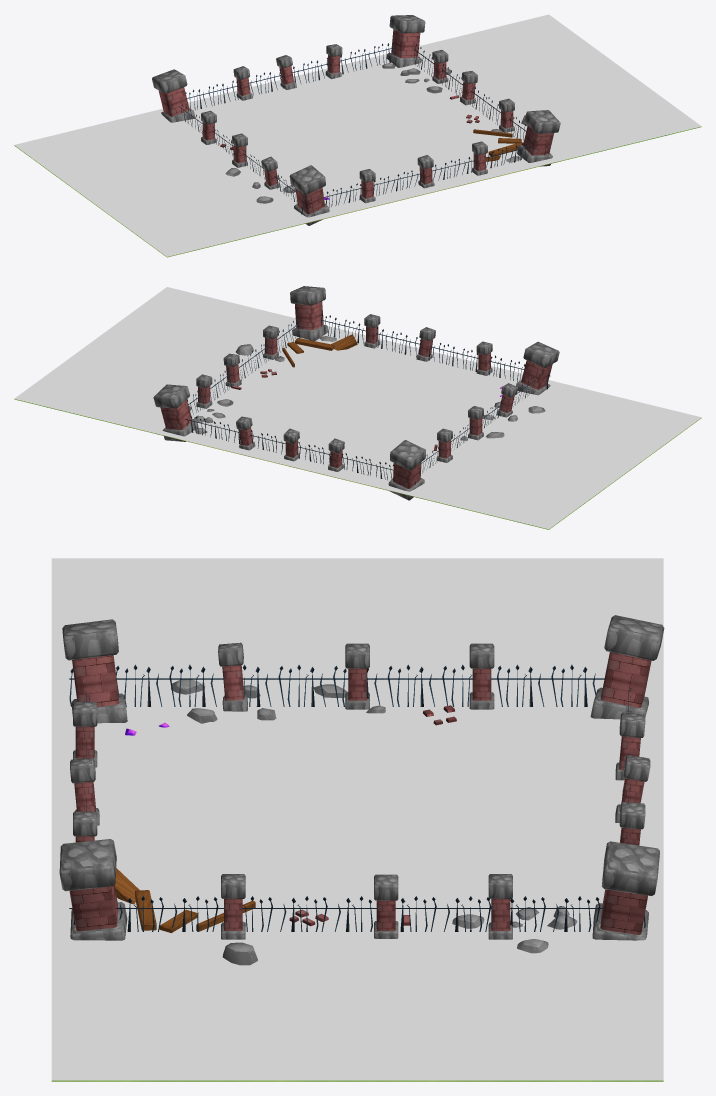
Rendered from BGPlane.FBX.
3 renders of one model, top to bottom at view 1: azimuth 30°, elevation 25°; view 2: azimuth 150°, elevation 25°; view 3: azimuth 270°, elevation 25°, orthographic. The views are drawn at different scales.
Parts seen in each view (by area): view 1: Object028, BGPlane; view 2: Object028, BGPlane; view 3: Object028, BGPlane.
Part boxes in pixels (x1,y1,x2,y2): Object028: [14, 14, 701, 256]; BGPlane: [14, 15, 701, 257]; Object028: [14, 287, 701, 529]; BGPlane: [14, 286, 701, 529]; Object028: [51, 558, 663, 1080]; BGPlane: [51, 615, 664, 1081].
Size of the model in its own units: 298 by 148 by 28.53.
